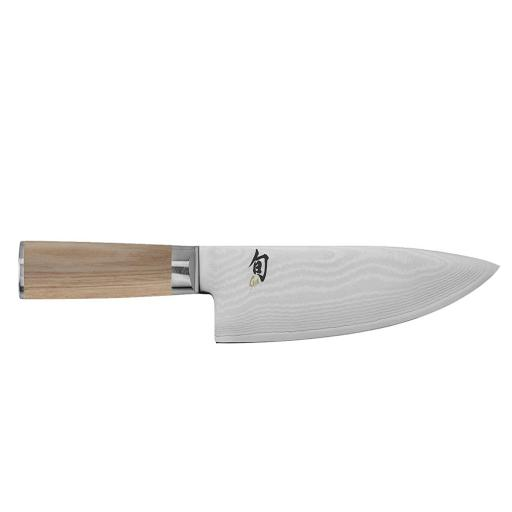knife: (9, 231, 505, 353)
